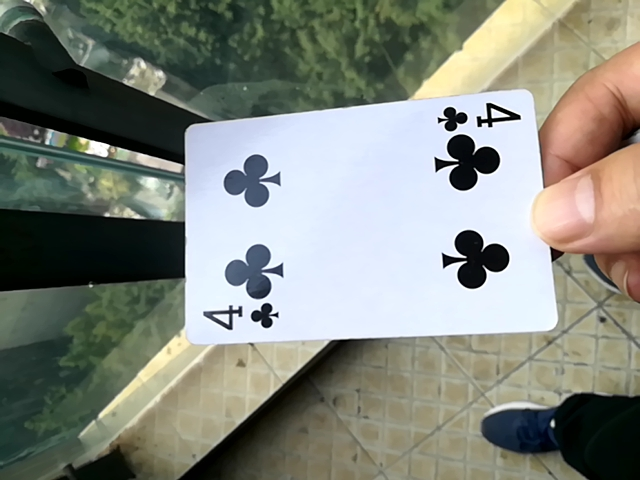mh 4: (172, 89, 551, 350)
